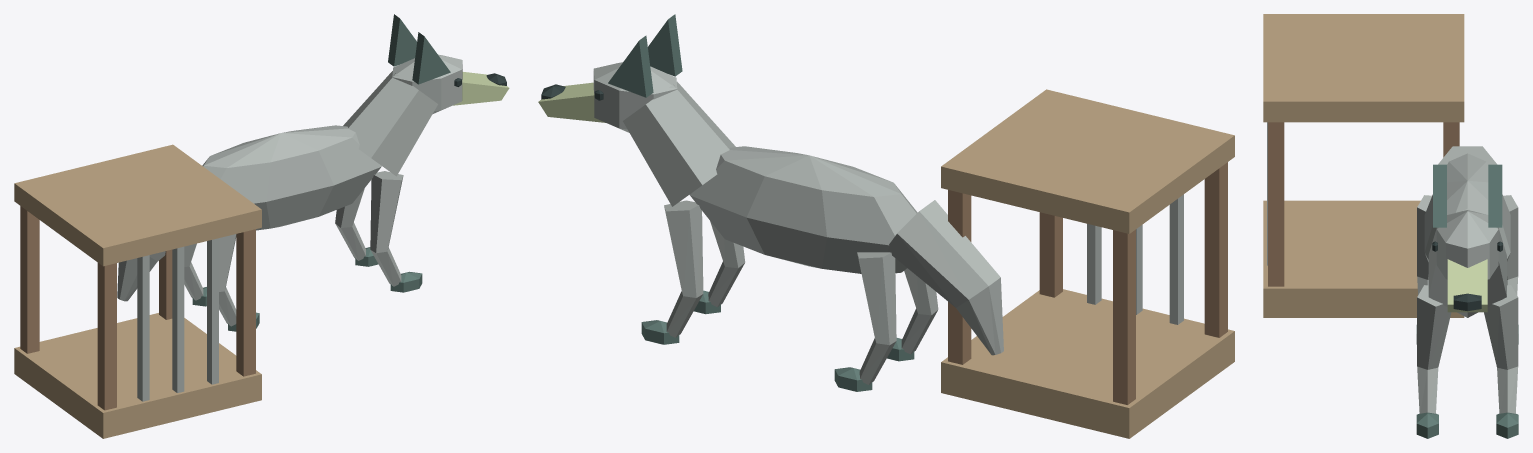
File: yellowstone-wolf-restoration.f8f5cf83865a.glb
3 views of the same model, side by side, from view 1: azimuth 30°, elevation 25°; view 2: azimuth 150°, elevation 25°; view 3: azimuth 270°, elevation 25° (orthographic). The views are drawn at different scales.
Visible parts, largest first — view 1: yellowstone-wolf-restoration; view 2: yellowstone-wolf-restoration; view 3: yellowstone-wolf-restoration.
Part boxes in pixels (<box>): yellowstone-wolf-restoration: <box>14,14,509,438</box>; yellowstone-wolf-restoration: <box>538,14,1234,438</box>; yellowstone-wolf-restoration: <box>1263,14,1518,438</box>.
Size of the model in its own units: 1 by 0.4878 by 0.397.
